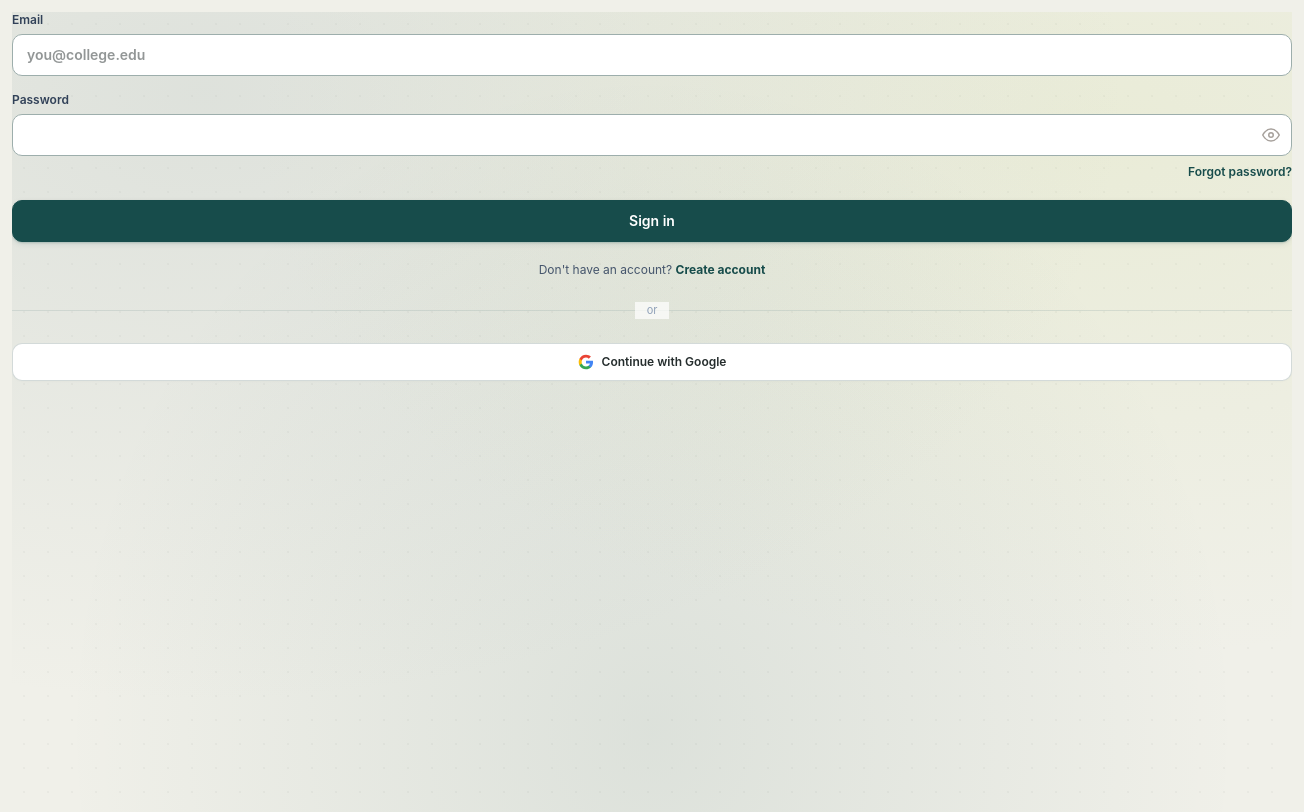
Test: LoginForm › shows a rate-limit message on 429
The width and height of the screenshot is (1304, 812).
In the field labelled "Email": (652, 55) [12,34,1292,76], type "a@b.c"
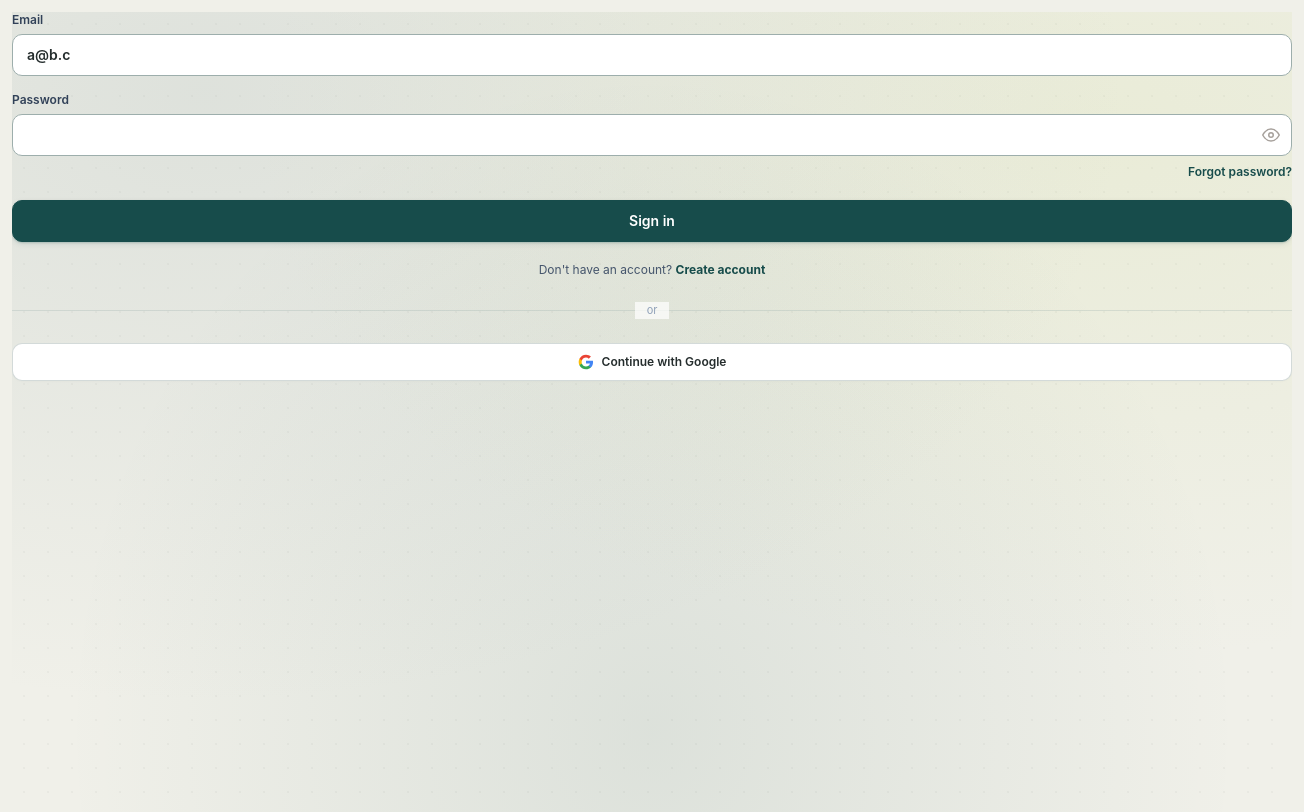
In the password field labelled "Password": (652, 135) [12,114,1292,156], type "secret123"
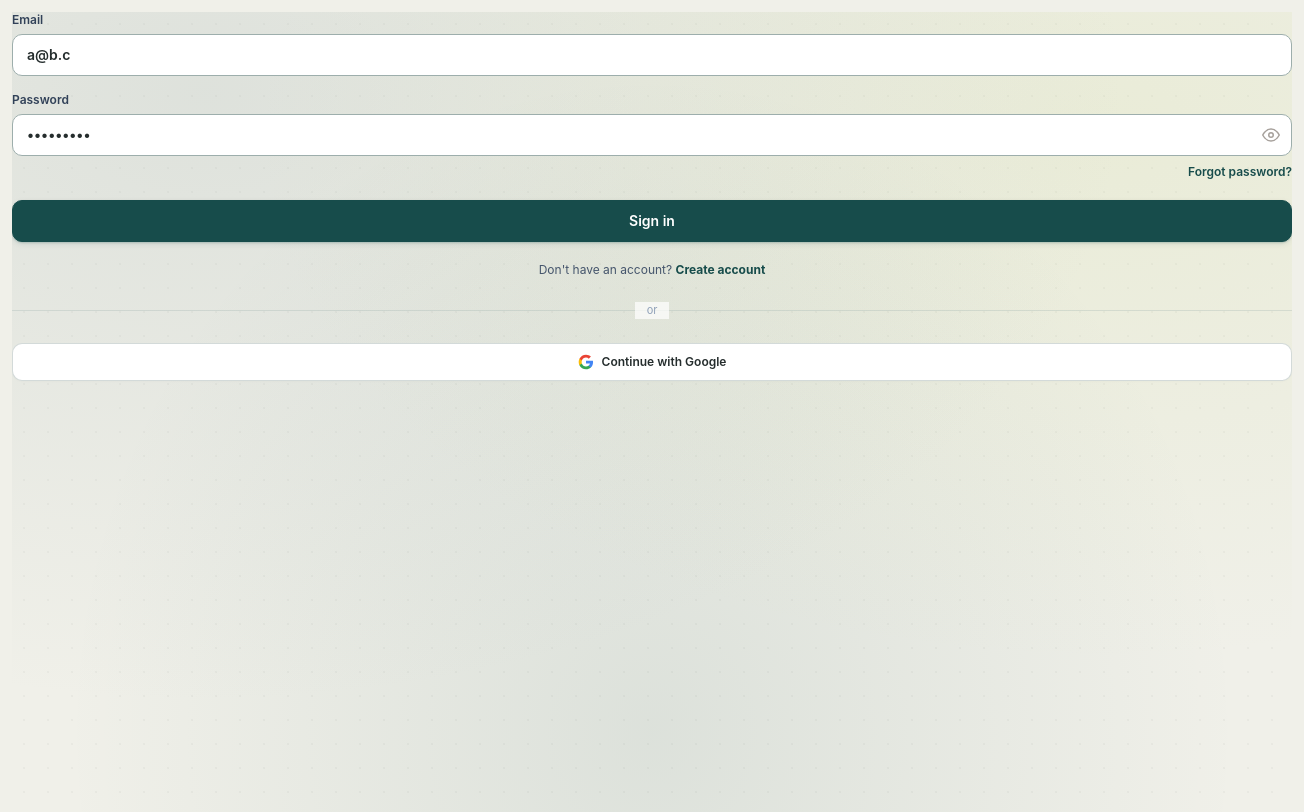
Click the button "Sign in": (652, 221) [12,200,1292,242]
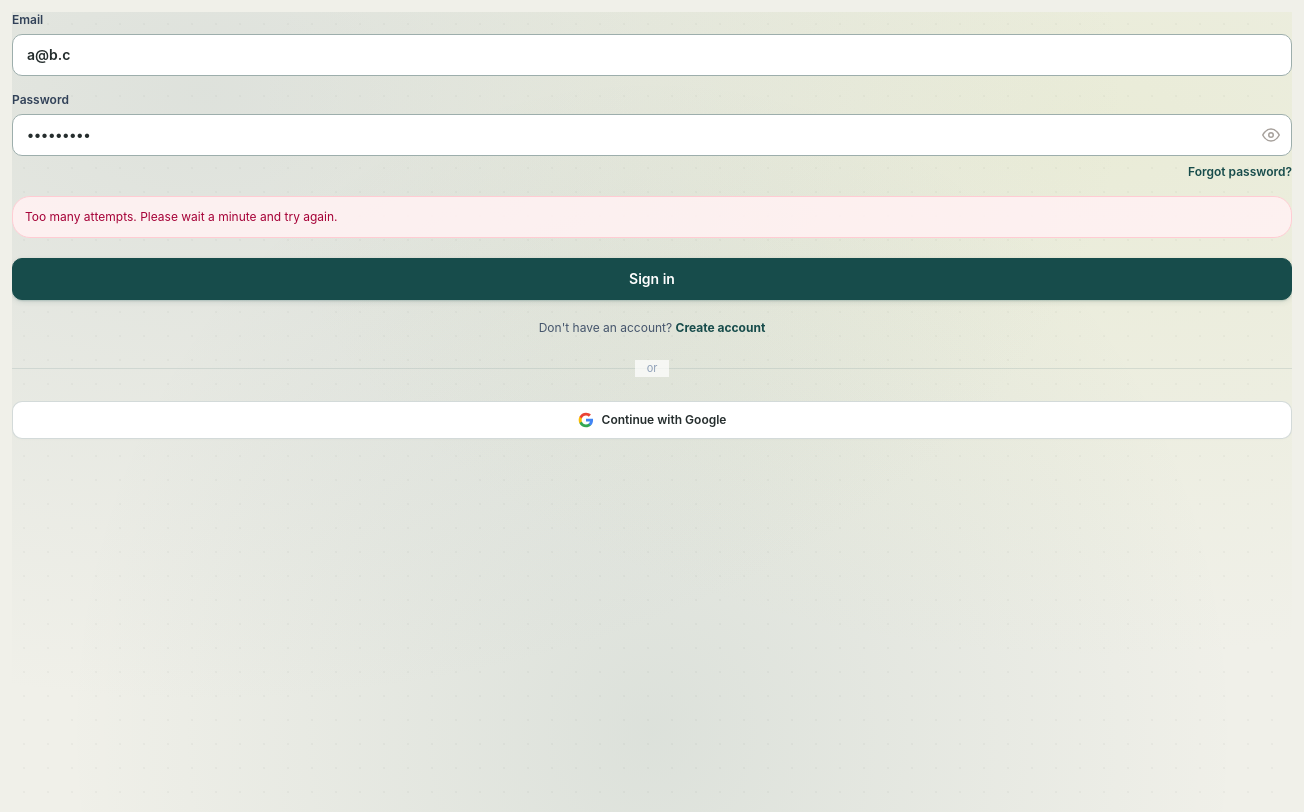
Result: the message "Too many attempts. Please wait a minute and try again." is shown at [12,196,1292,238]
Result: the message shows "Too many attempts" at [25,209,338,224]
